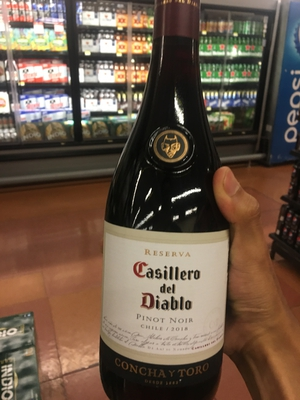casillero del diablo pinot noir: (91, 29, 235, 400)
